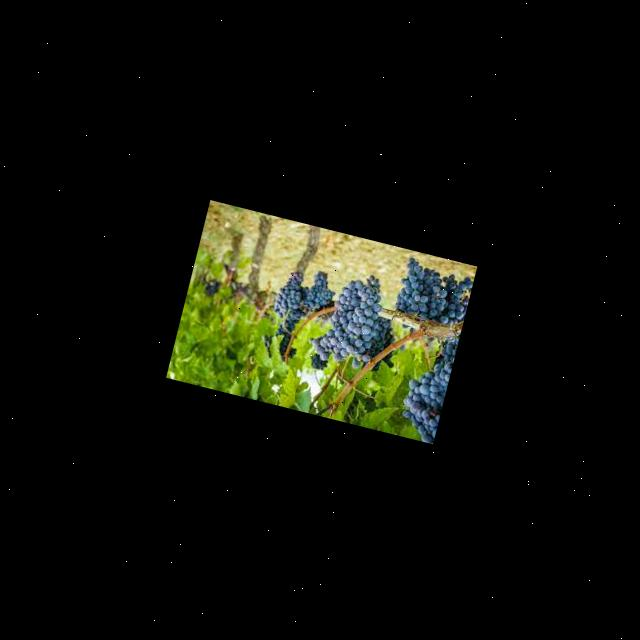grape: (301, 262, 411, 386), (393, 328, 458, 442)
